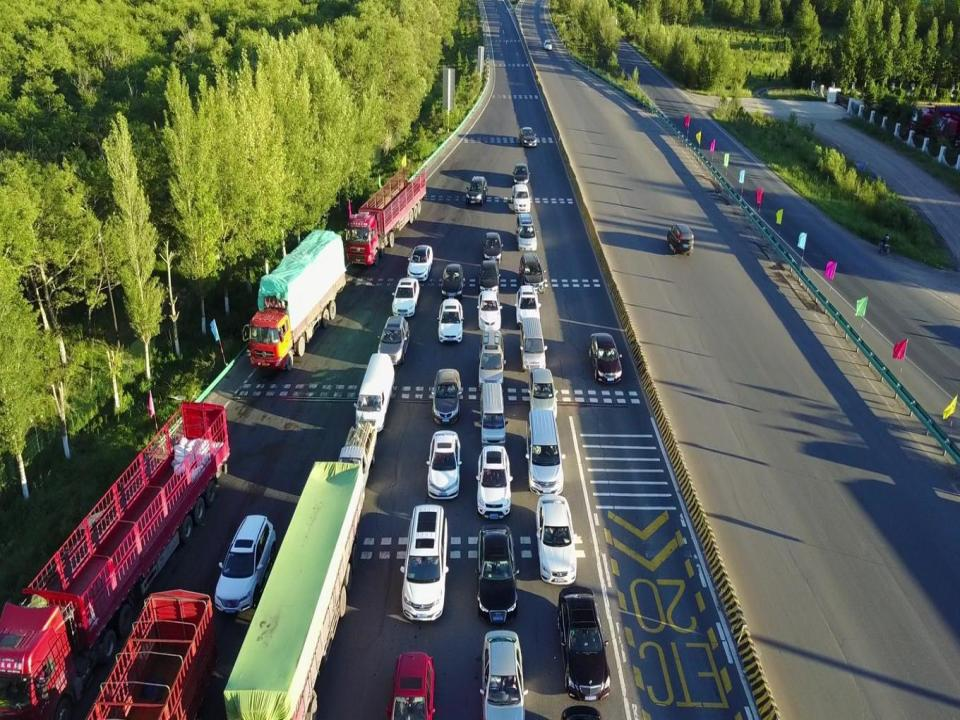car: (557, 586, 611, 702), (214, 515, 276, 613), (400, 504, 449, 620), (474, 525, 519, 624), (479, 630, 527, 720), (535, 495, 577, 585), (386, 652, 436, 720), (475, 445, 513, 519), (426, 430, 462, 499), (430, 369, 462, 424), (588, 332, 622, 383), (527, 368, 558, 419), (377, 316, 409, 364), (437, 298, 464, 344), (515, 285, 542, 329), (520, 252, 546, 295), (476, 290, 502, 331), (392, 278, 420, 316), (406, 244, 432, 280), (667, 223, 694, 255), (441, 264, 465, 300), (478, 260, 500, 295), (465, 176, 488, 206), (482, 232, 503, 264), (513, 164, 530, 188), (519, 127, 536, 147), (543, 39, 552, 50)
truck: (0, 400, 231, 720), (222, 461, 364, 720), (87, 588, 218, 720), (241, 229, 346, 372), (344, 166, 426, 266), (336, 421, 377, 492), (512, 184, 532, 212)
van: (525, 410, 566, 495), (353, 353, 395, 432), (479, 382, 508, 449), (477, 330, 506, 393), (520, 317, 547, 373), (515, 213, 538, 250)
